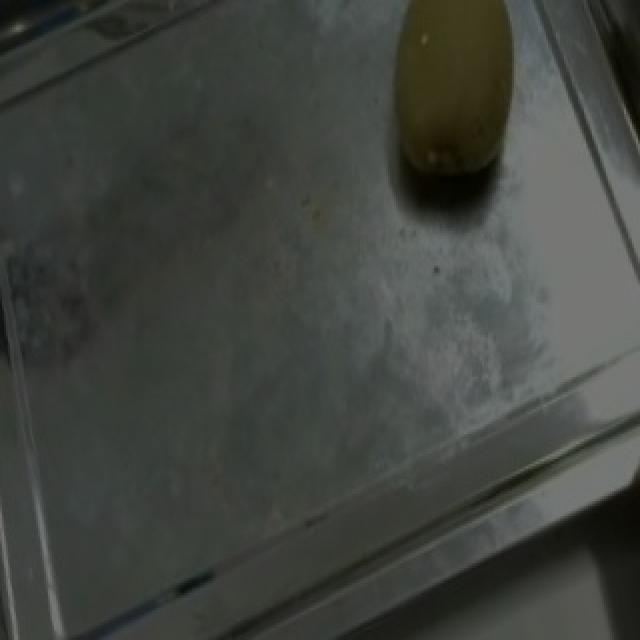Fruit: (352, 0, 560, 231)
